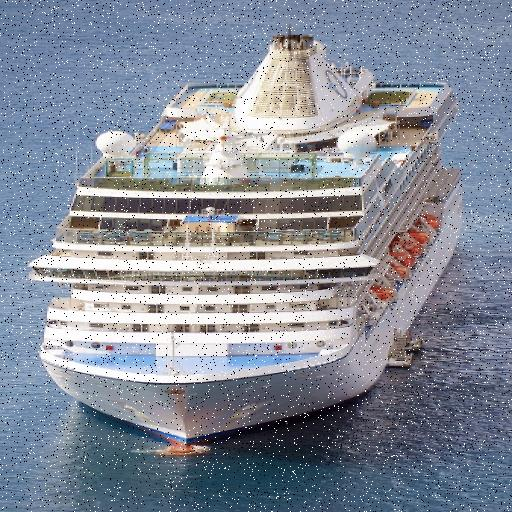cruises: (33, 26, 475, 446)
